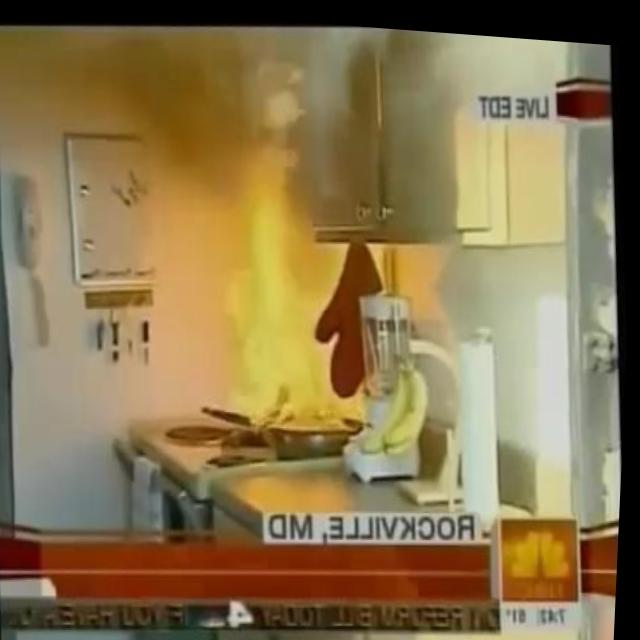fire: (206, 116, 423, 439)
